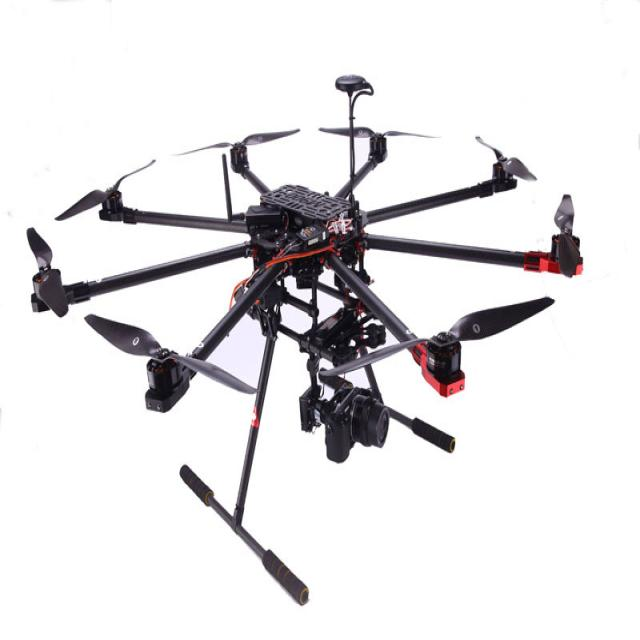drone: (20, 80, 617, 614)
